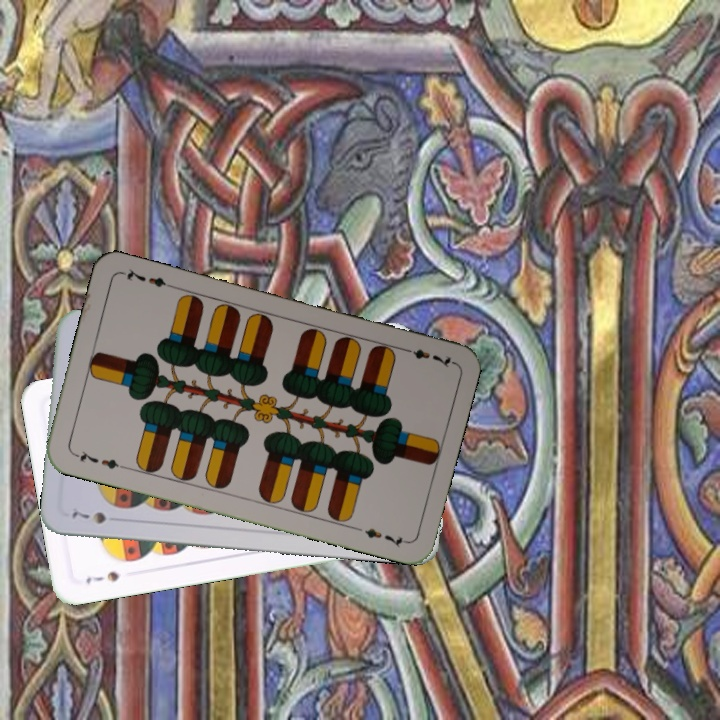E7: (397, 343, 455, 371), (70, 446, 128, 472)
S7: (68, 507, 109, 527), (82, 567, 122, 587)
